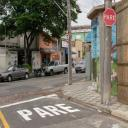NoEstacionar: (66, 33, 69, 42)
Pare: (102, 7, 116, 27)
